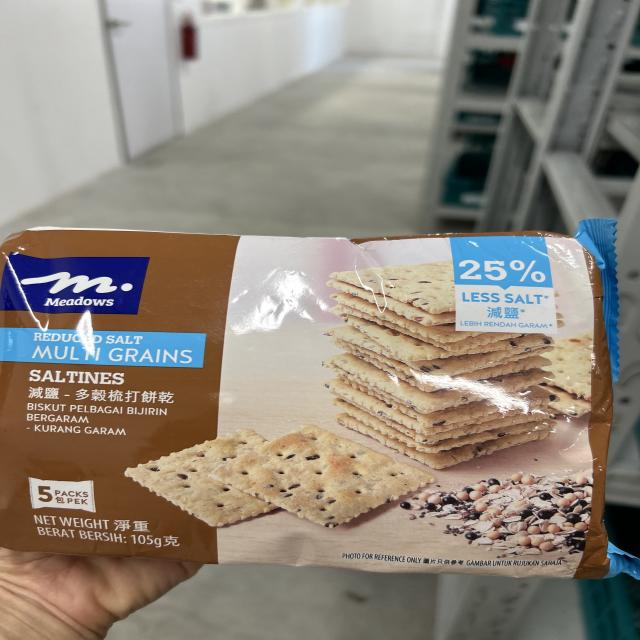object_name: (12, 229, 598, 573)
